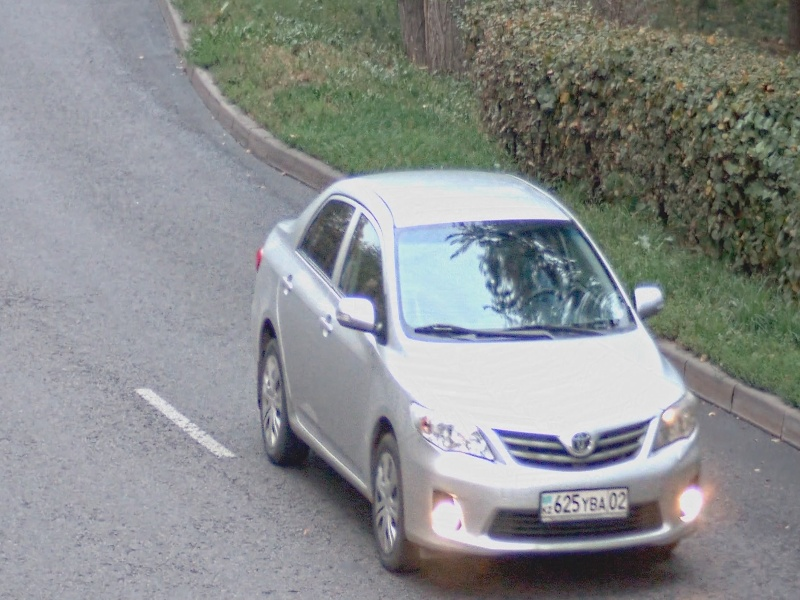plate: (538, 485, 630, 524)
